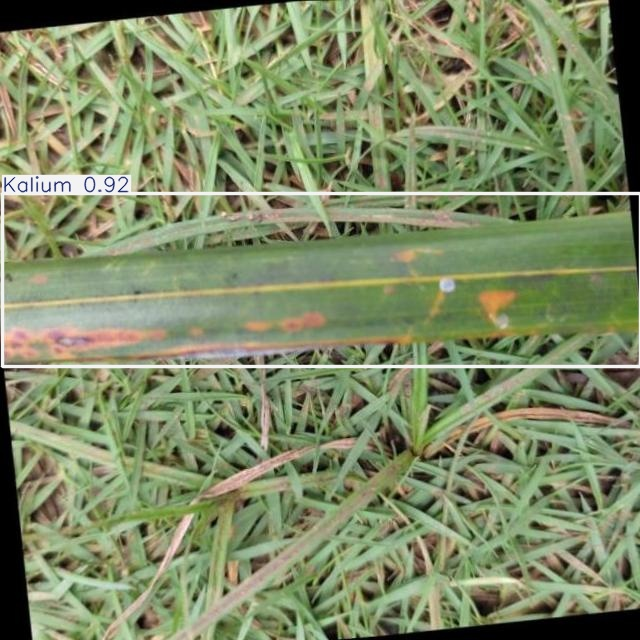Kalium: (3, 194, 640, 367)
